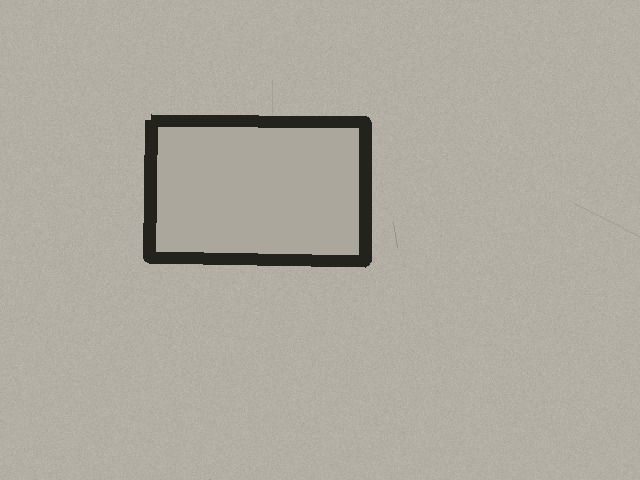parking_area: (149, 120, 365, 261)
